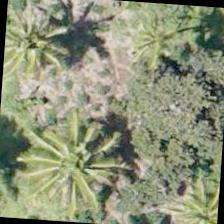Kelapa_Sawit: (110, 0, 206, 91), (1, 4, 77, 98), (156, 161, 220, 223)
